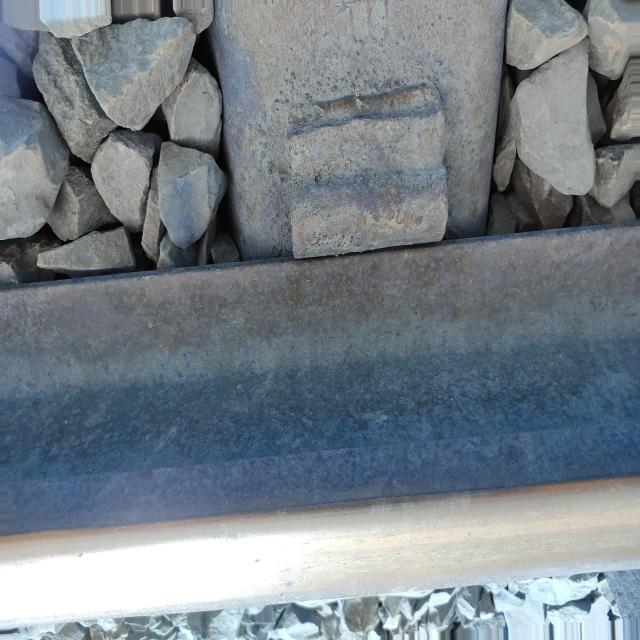Missing Fastener: (208, 0, 507, 260)
